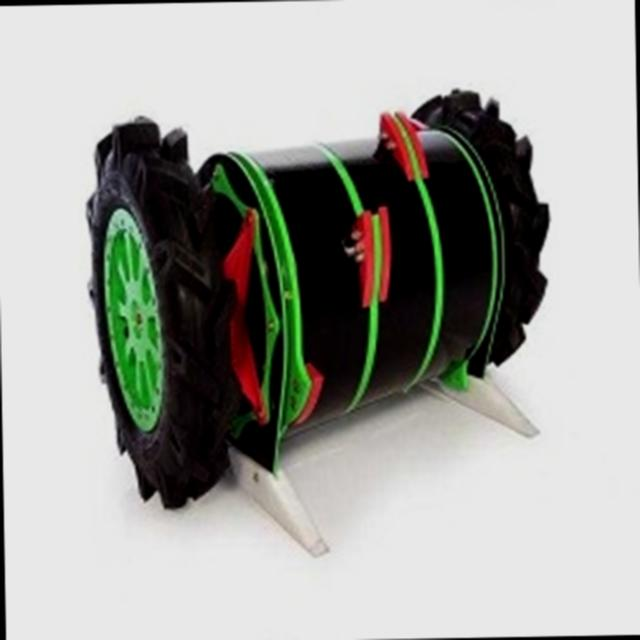ax: (73, 75, 570, 571)
